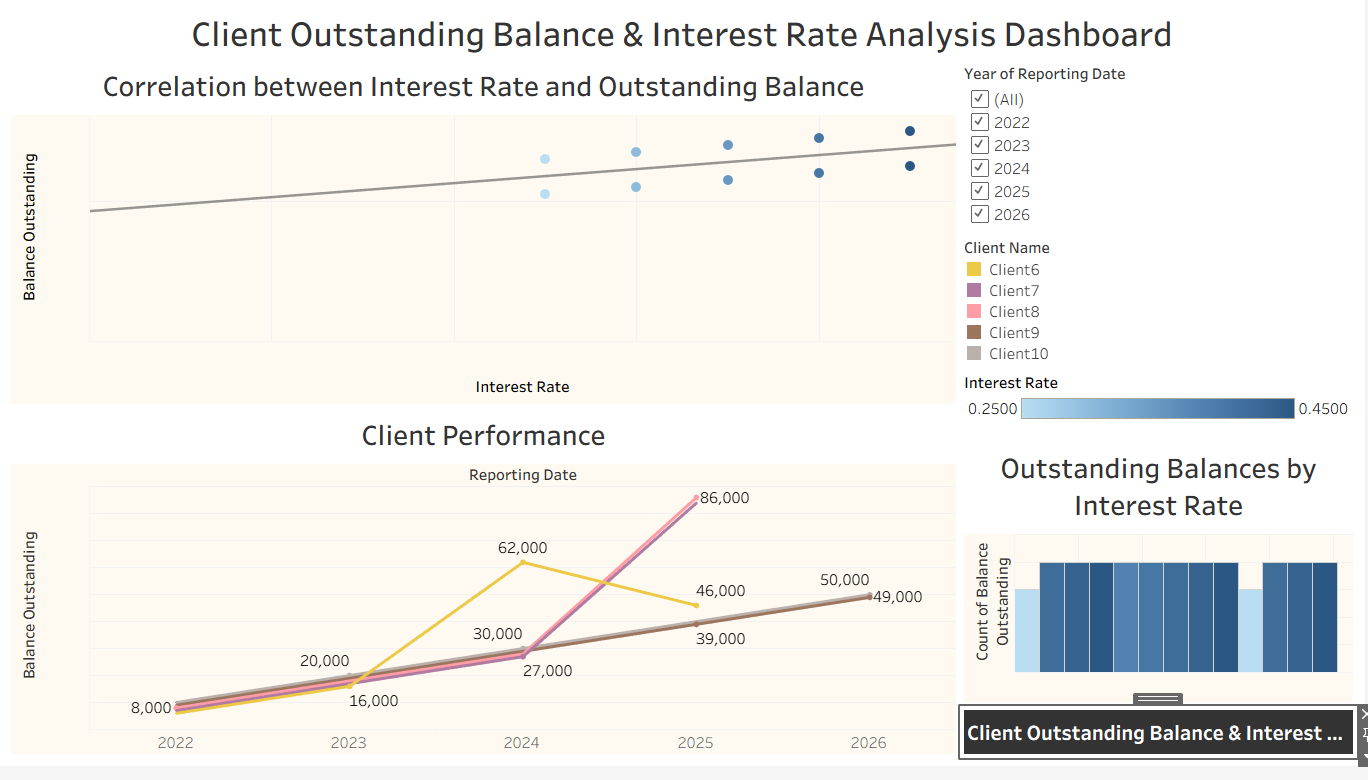

Layout of this report page (visuals, bound fields, positions):
{"tool":"tableau","page":{"name":"Client Outstanding Balance & Interest Rate Analysis Dashboard","canvas":[1366,768],"ordinal":0},"visuals":[{"type":"title","box":[8,8,1350,53]},{"type":"worksheet","title":"Correlation between Interest Rate and Outstanding Balance","mark":"Circle","rows":["Balance Outstanding"],"cols":["Interest Rate"],"box":[8,61,953,349.5]},{"type":"filter","title":"Client Performance","param":"[federated.1aaentk1ovwsgr15jo0ck1yqe0zi].[yr:Reporting Date:ok]","box":[961,61,397,174]},{"type":"legend","title":"Client Performance","param":"[federated.1aaentk1ovwsgr15jo0ck1yqe0zi].[none:Client Name:nk]","box":[961,235,397,135]},{"type":"legend","title":"Correlation between Interest Rate and Outstanding Balance","param":"[federated.1aaentk1ovwsgr15jo0ck1yqe0zi].[sum:Interest Rate:qk]","box":[961,370,397,73]},{"type":"worksheet","title":"Client Performance","mark":"Automatic","rows":["Balance Outstanding"],"cols":["Reporting Date"],"box":[8,410.5,953,349.5]},{"type":"worksheet","title":"Outstanding Balances by Interest Rate","mark":"Automatic","rows":["Balance Outstanding"],"cols":["Balance Outstanding (bin)"],"box":[961,443,397,265]},{"type":"dashboard-object","box":[961,708,397,52]}]}

Visuals, with their boxes in screenshot pixels (x1, y1, x2, y2), scaled from the page's 1366x768 canvas onto the 1368x780 screenshot:
title: 8, 8, 1360, 62
"Correlation between Interest Rate and Outstanding Balance" worksheet (Circle marks): 8, 62, 962, 417
"Client Performance" filter: 962, 62, 1360, 239
"Client Performance" legend: 962, 239, 1360, 376
"Correlation between Interest Rate and Outstanding Balance" legend: 962, 376, 1360, 450
"Client Performance" worksheet: 8, 417, 962, 772
"Outstanding Balances by Interest Rate" worksheet: 962, 450, 1360, 719
dashboard-object: 962, 719, 1360, 772
